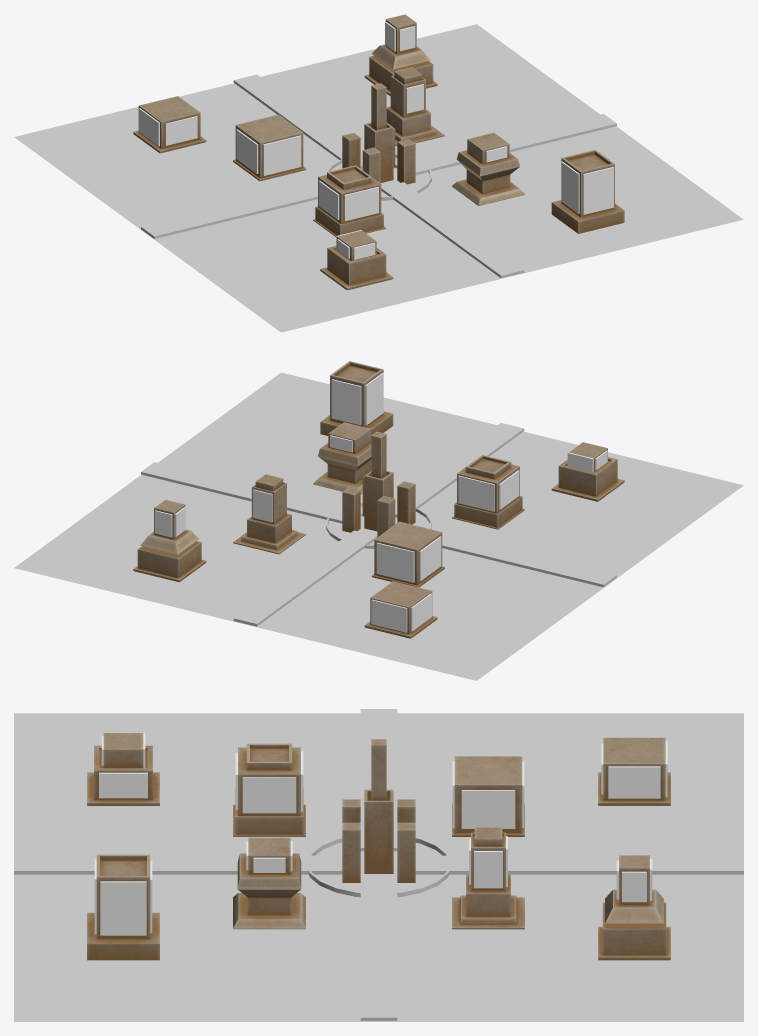
3 renders of one model, top to bottom at view 1: azimuth 30°, elevation 25°; view 2: azimuth 150°, elevation 25°; view 3: azimuth 270°, elevation 25°, orthographic. The views are drawn at different scales.
Parts seen in each view (by area): view 1: Floor, Building, Billboard; view 2: Floor, Building, Billboard; view 3: Floor, Building, Billboard.
Boxes of the visible parts, bbox=[...] form: Floor: bbox=[14, 24, 743, 332]; Building: bbox=[133, 14, 624, 290]; Billboard: bbox=[139, 22, 613, 259]; Floor: bbox=[14, 372, 743, 680]; Building: bbox=[133, 361, 624, 638]; Billboard: bbox=[155, 373, 607, 632]; Floor: bbox=[14, 709, 743, 1021]; Building: bbox=[87, 733, 670, 960]; Billboard: bbox=[94, 732, 667, 935].
Bounding box in the file's own units: 10.02 × 1.93 × 10.02.
3 materials, 1 textured.
